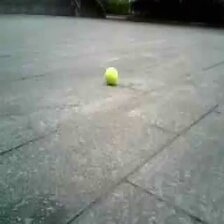tennis: (104, 68, 118, 84)
